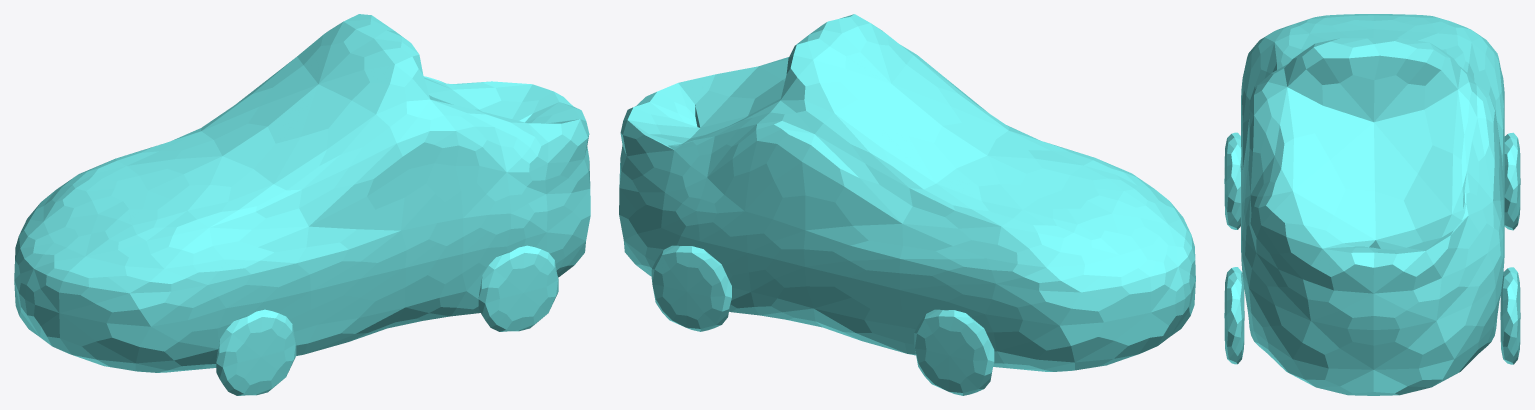
File: LeftShoes.obj
The picture shows the model from 3 angles, left to right: view 1: azimuth 30°, elevation 25°; view 2: azimuth 150°, elevation 25°; view 3: azimuth 270°, elevation 25°; orthographic projection. The views are drawn at different scales.
Parts seen in each view (by area): view 1: Cube; view 2: Cube; view 3: Cube.
Part boxes in pixels (box(x1,y1,x2,y2)): Cube: box(14, 14, 590, 395); Cube: box(619, 14, 1195, 395); Cube: box(1224, 14, 1520, 395).
Size of the model in its own units: 12.59 by 5.87 by 5.59.
1 material, 1 textured.
